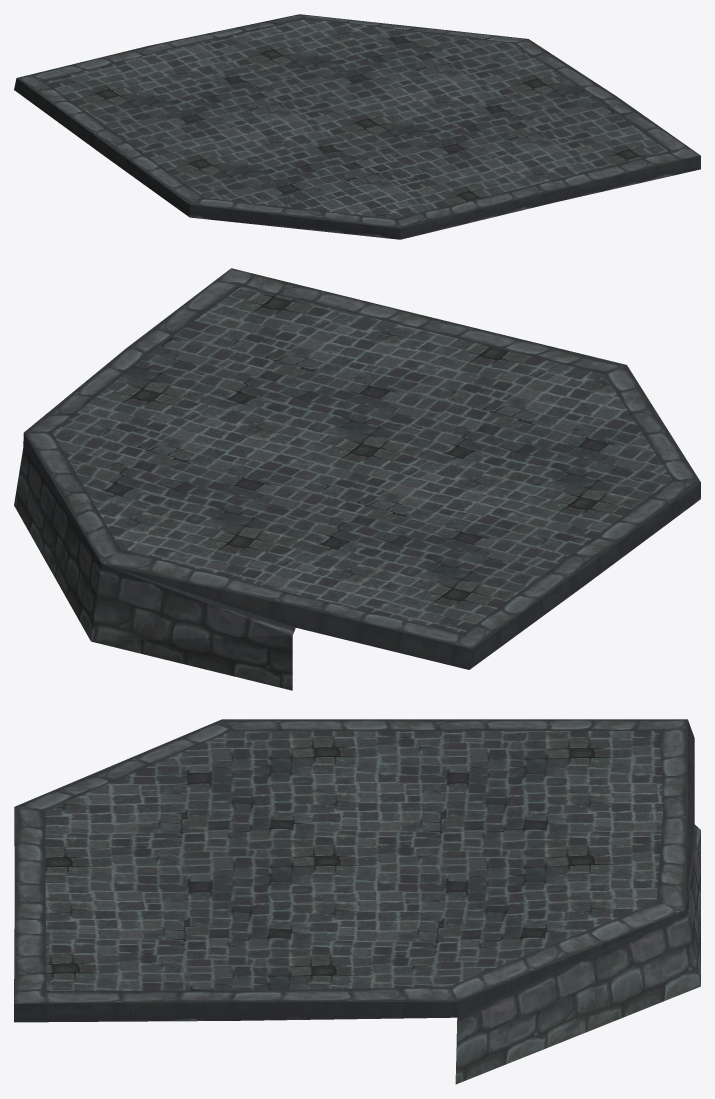
Rendered from terrain_towncenterstone02.fbx.
3 views of the same model, one above another, from view 1: azimuth 30°, elevation 25°; view 2: azimuth 150°, elevation 25°; view 3: azimuth 270°, elevation 25° (orthographic). The views are drawn at different scales.
Parts seen in each view (by area): view 1: obj1.057; view 2: obj1.057; view 3: obj1.057.
Part boxes in pixels (<box>): obj1.057: <box>14,14,700,239</box>; obj1.057: <box>14,268,700,690</box>; obj1.057: <box>14,719,700,1084</box>.
Bounding box in the file's own units: 12.32 × 1.62 × 12.56.
